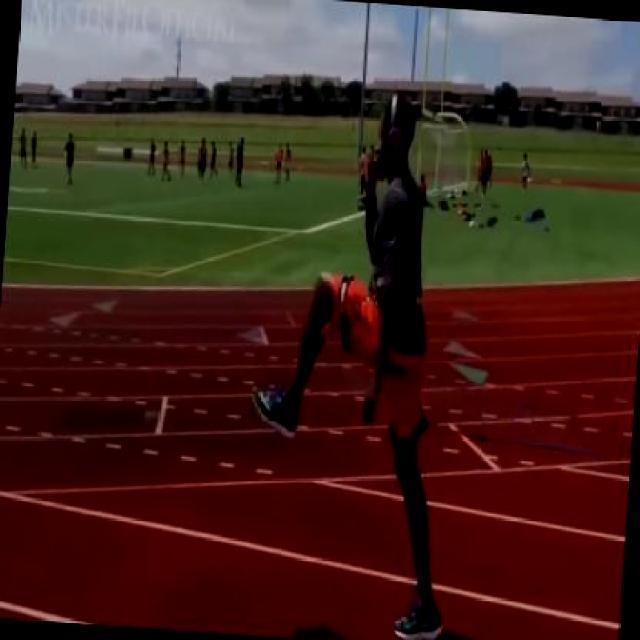non-fight: (232, 81, 480, 638)
